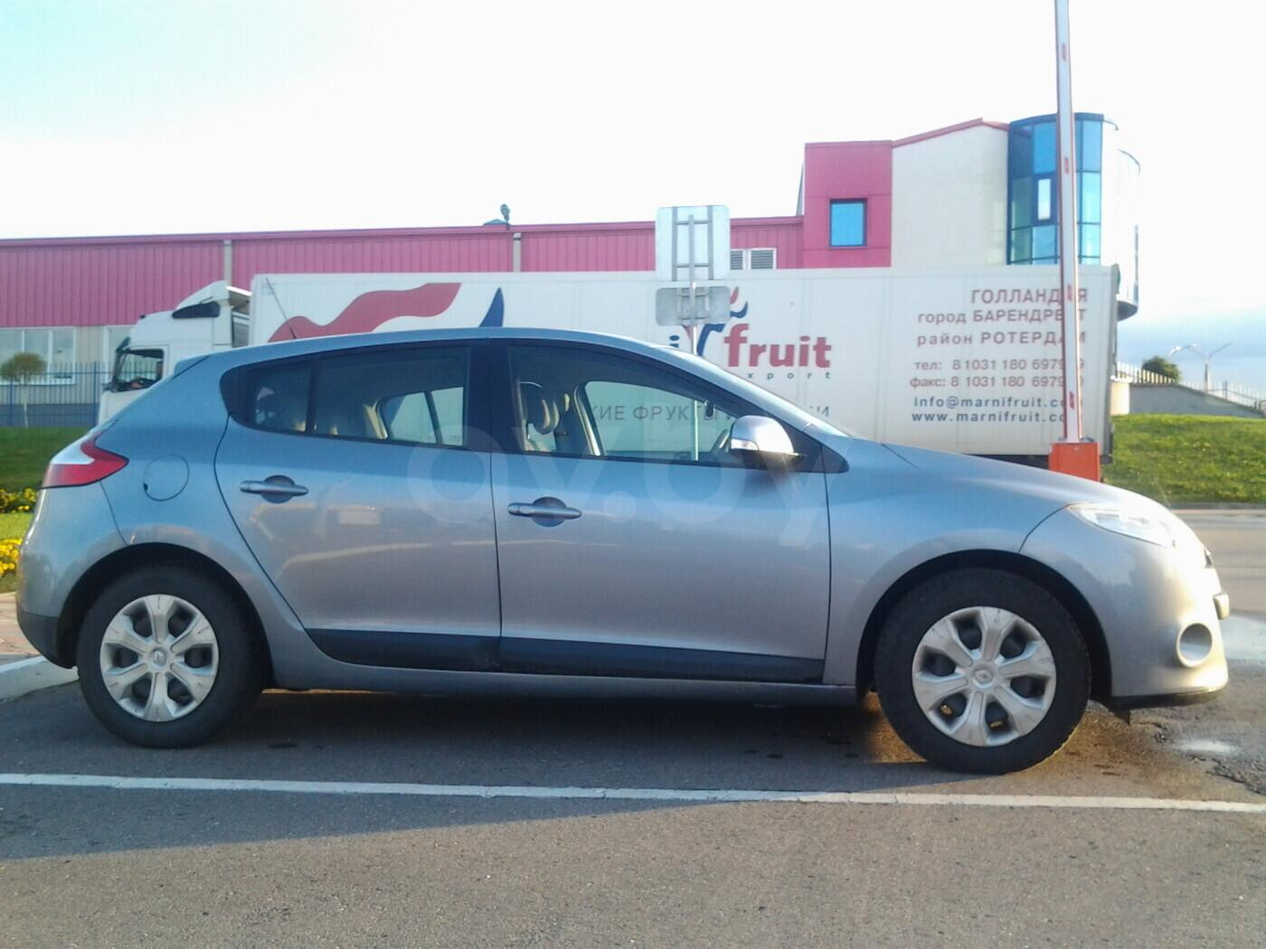Megane_2008-2014: (17, 323, 1241, 781)
